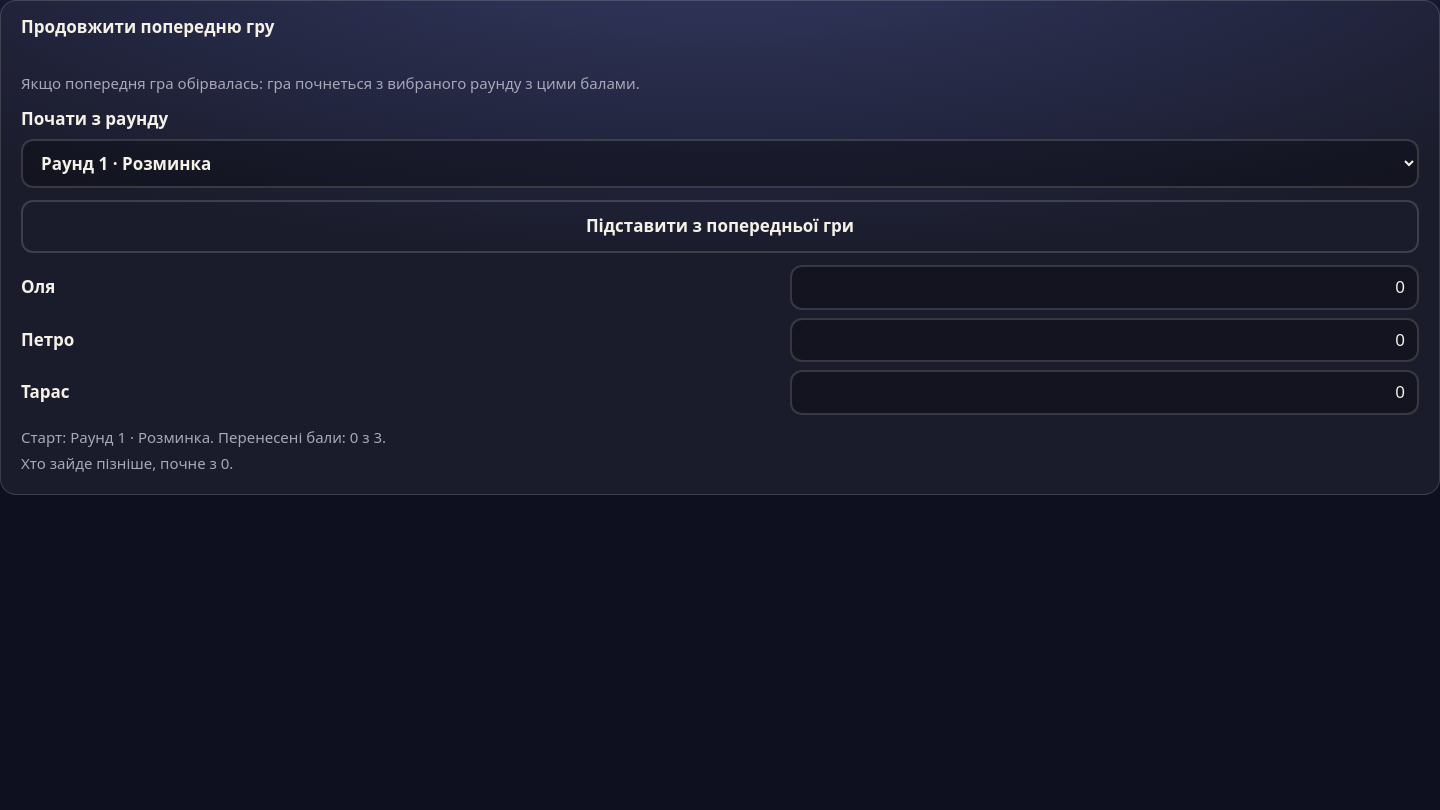
Test: ResumePanel › one previous game fills right away and names the unmatched
Click the button "Підставити з попередньої гри": (720, 227) [21,200,1419,253]
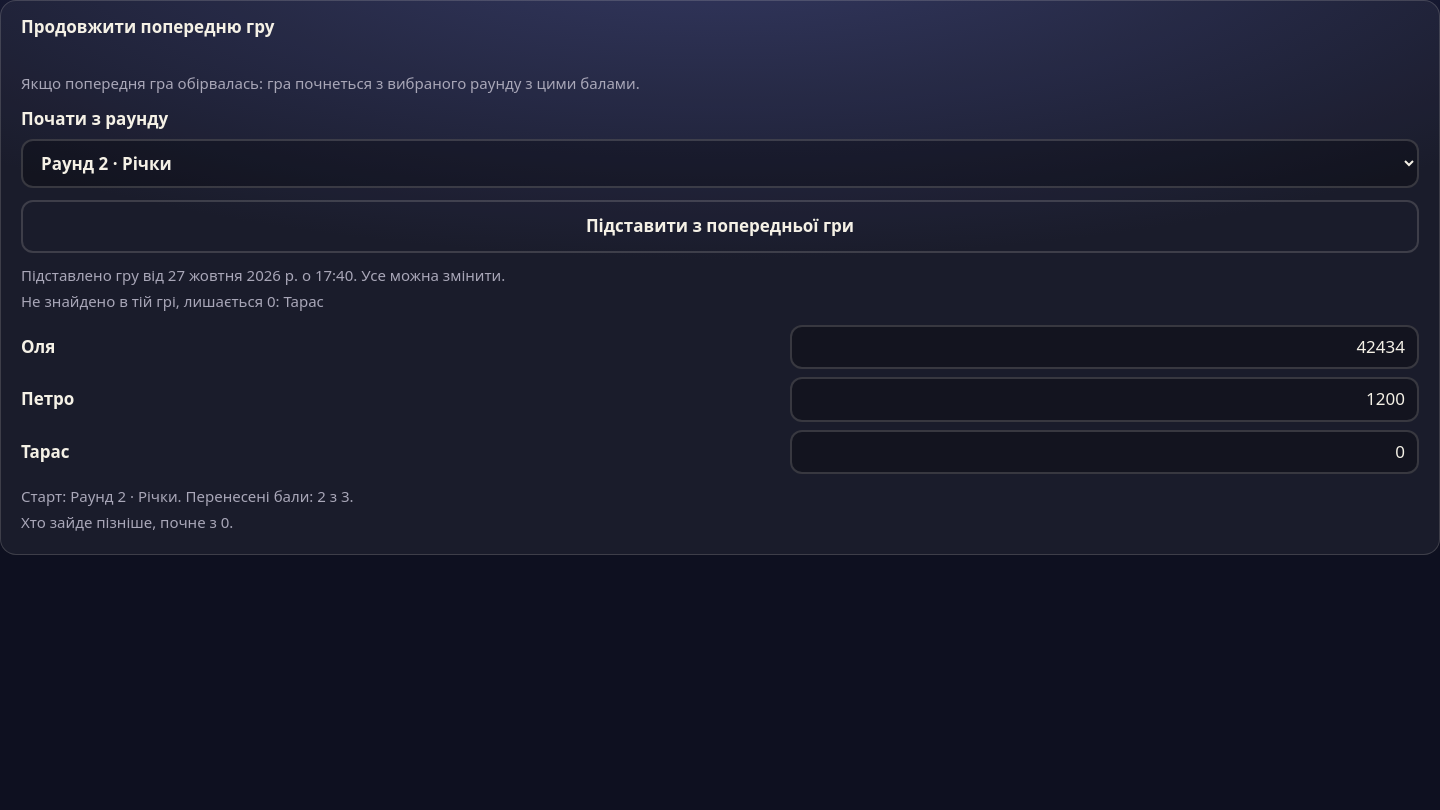
expect the field labelled "Оля" holds "42434": met, box [790,324,1419,369]
expect the field labelled "Петро" holds "1200": met, box [790,377,1419,422]
expect the text "Не знайдено в тій грі, лишається 0: Тарас" is shown: met, box [21,291,324,311]
